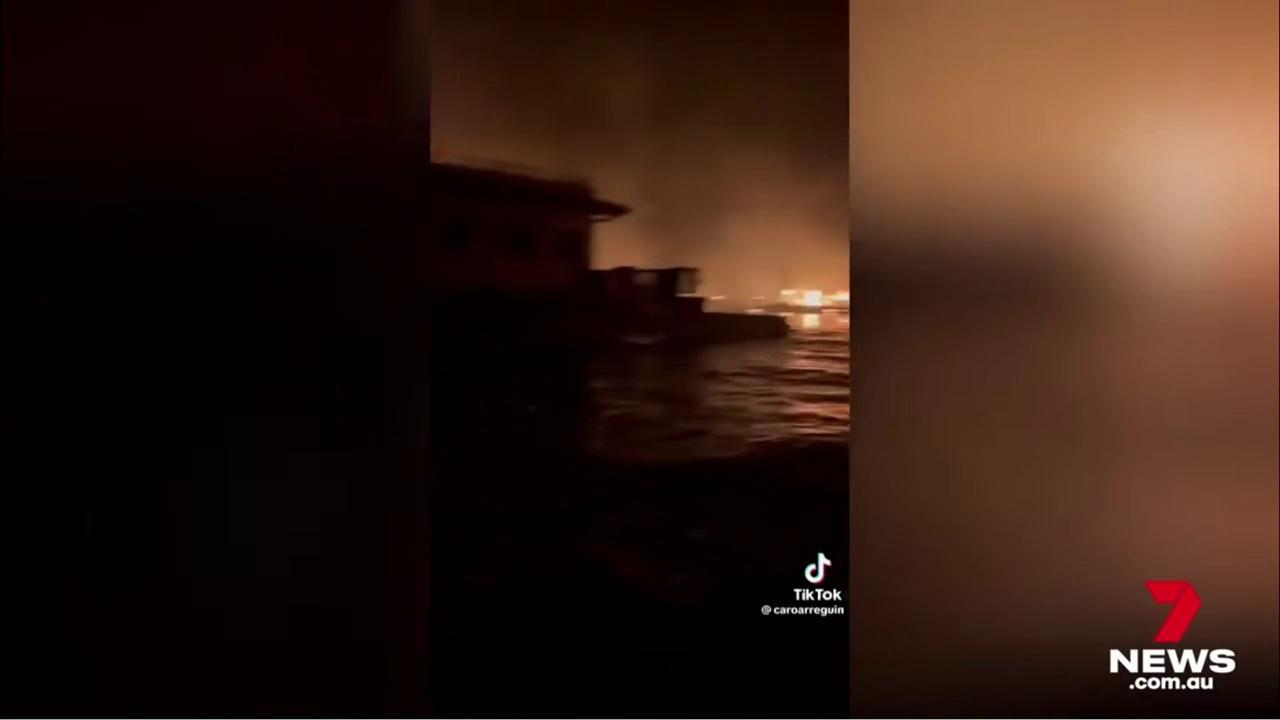fire: (779, 286, 849, 308), (709, 295, 728, 301)
smoke: (434, 0, 851, 309)
